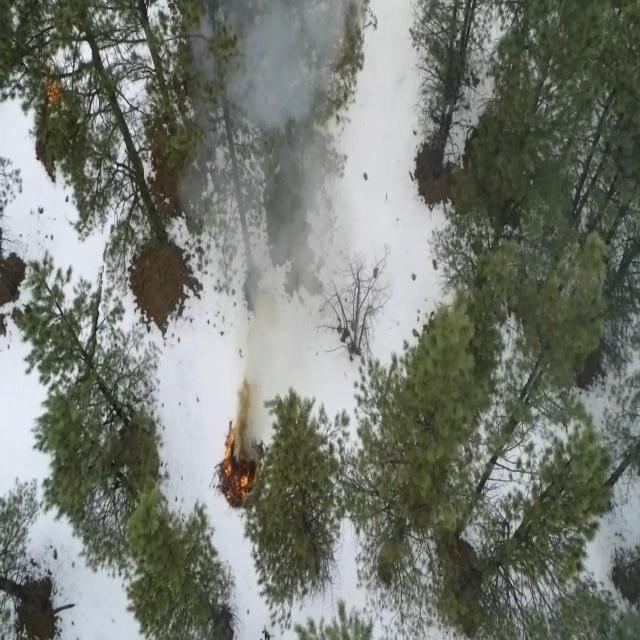Fire: (218, 423, 249, 494)
Smoke: (202, 6, 376, 442)
